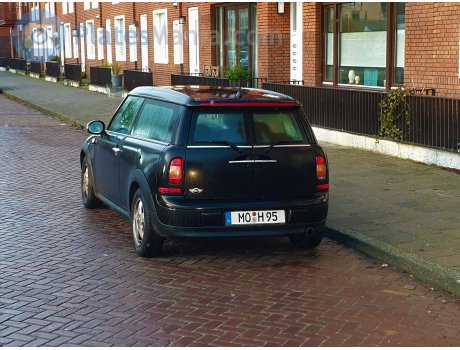License Plates: (229, 209, 281, 219)
